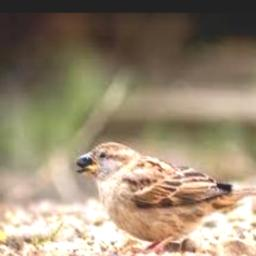Sparrow: (76, 141, 256, 254)
